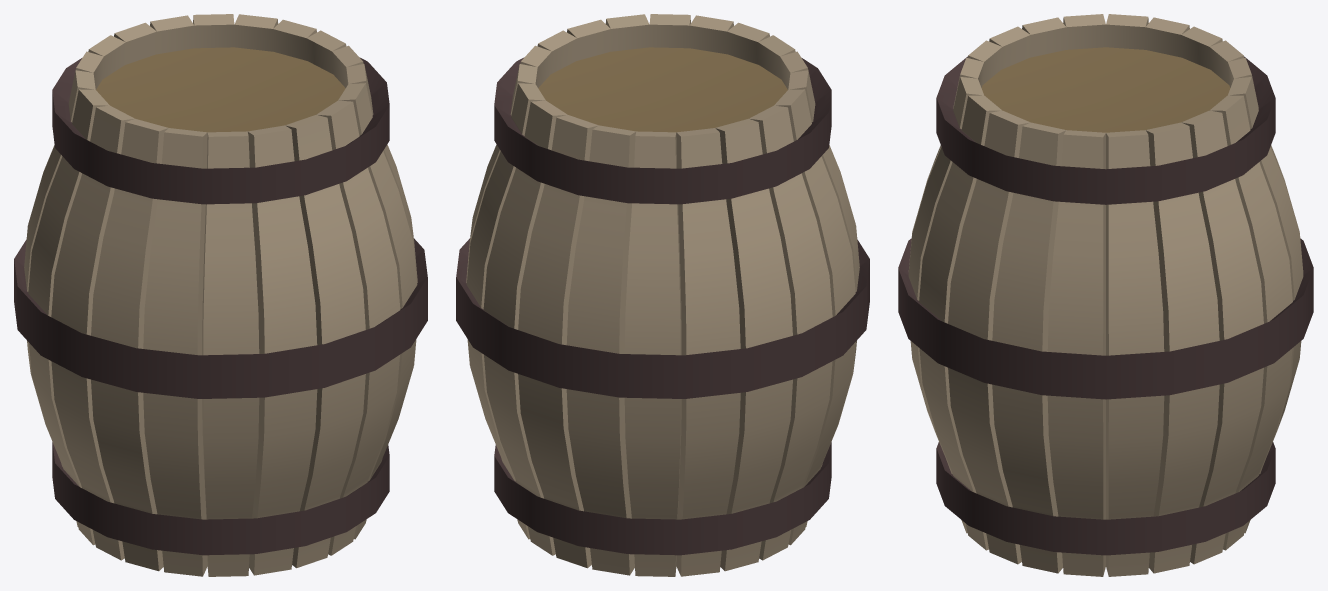
File: BarrelIntact.fbx
3 renders of one model, left to right at view 1: azimuth 30°, elevation 25°; view 2: azimuth 150°, elevation 25°; view 3: azimuth 270°, elevation 25°, orthographic.
Parts seen in each view (by area): view 1: pTorus13; view 2: pTorus13; view 3: pTorus13.
Part boxes in pixels (x1,y1,x2,y2): pTorus13: (14,14,427,576); pTorus13: (456,14,869,576); pTorus13: (898,14,1313,576).
Bounding box in the file's own units: 12.64 × 14.75 × 12.64.
